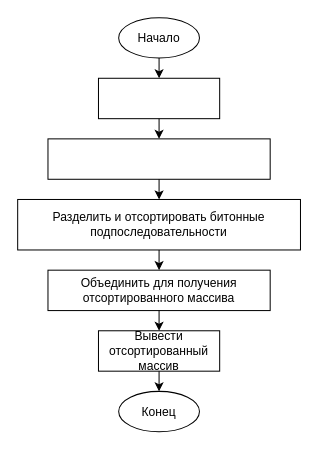
Some shapes in this 318 by 449 pixel diagram are drawn without their labels. Here are the shapes that lost their labels. From the top down, the centre of each, then its label:
point 158,98: Ввести массив A[0..n-1]
point 158,158: Построить битонную последовательность
